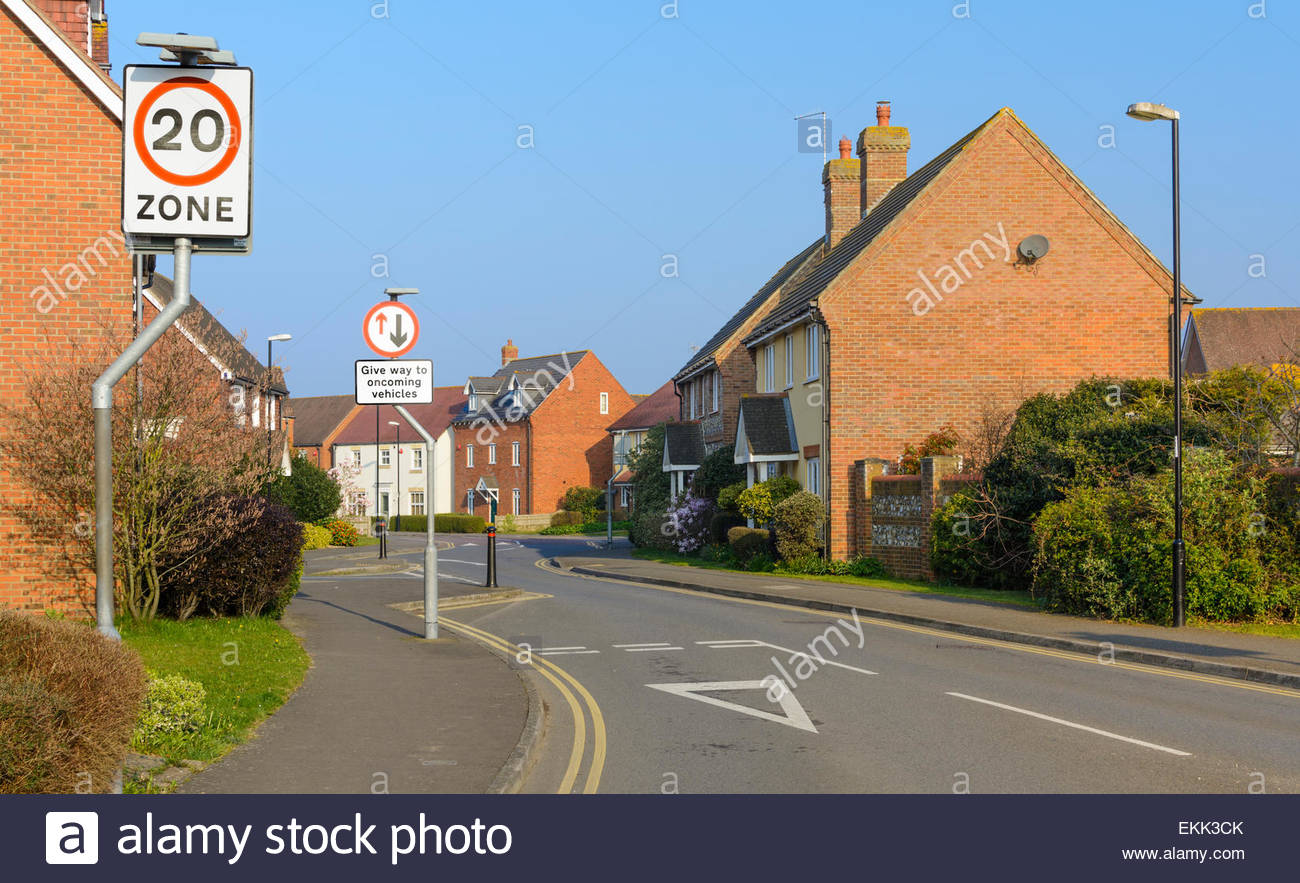speed_limit_20: (135, 78, 241, 184)
